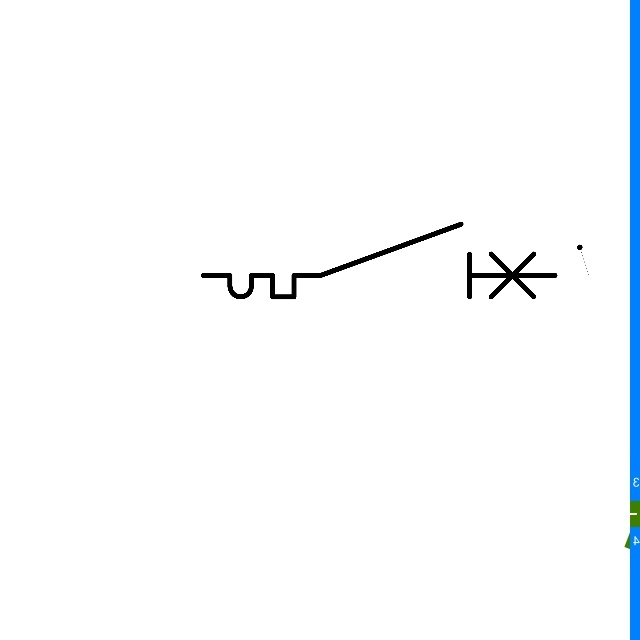interruptor_termomagnetico: (194, 215, 564, 306)
